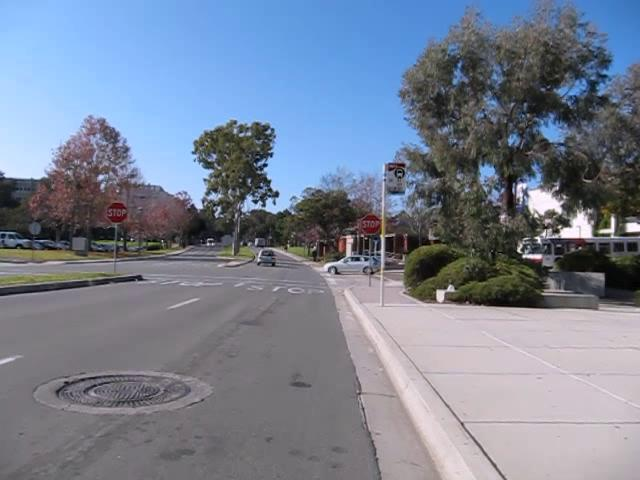stop: (105, 200, 128, 224), (359, 213, 382, 236)
